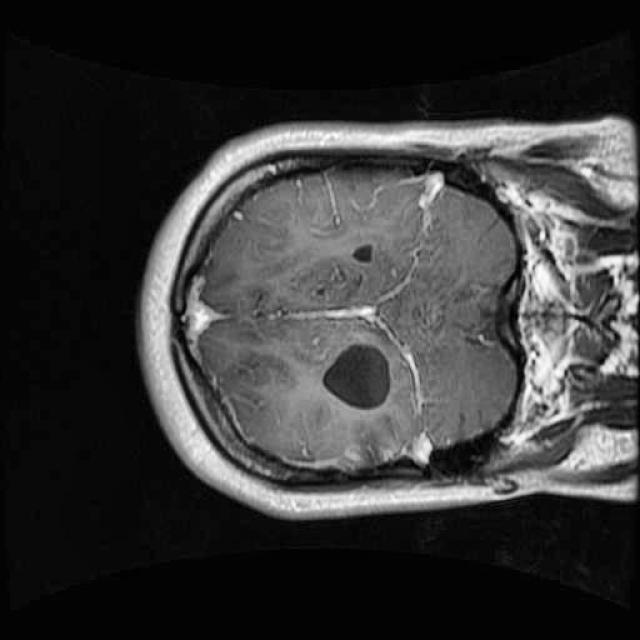Tumor: (304, 324, 410, 426)
